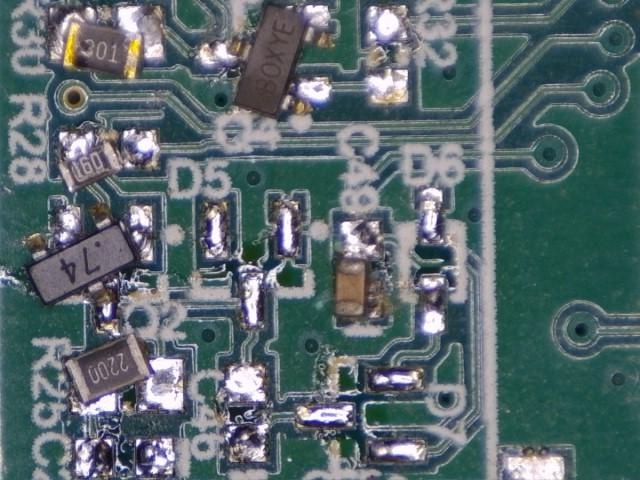pcb_defect: (24, 201, 154, 334), (198, 3, 335, 118), (64, 331, 184, 414), (49, 4, 164, 79), (57, 130, 159, 195), (332, 219, 385, 318)
